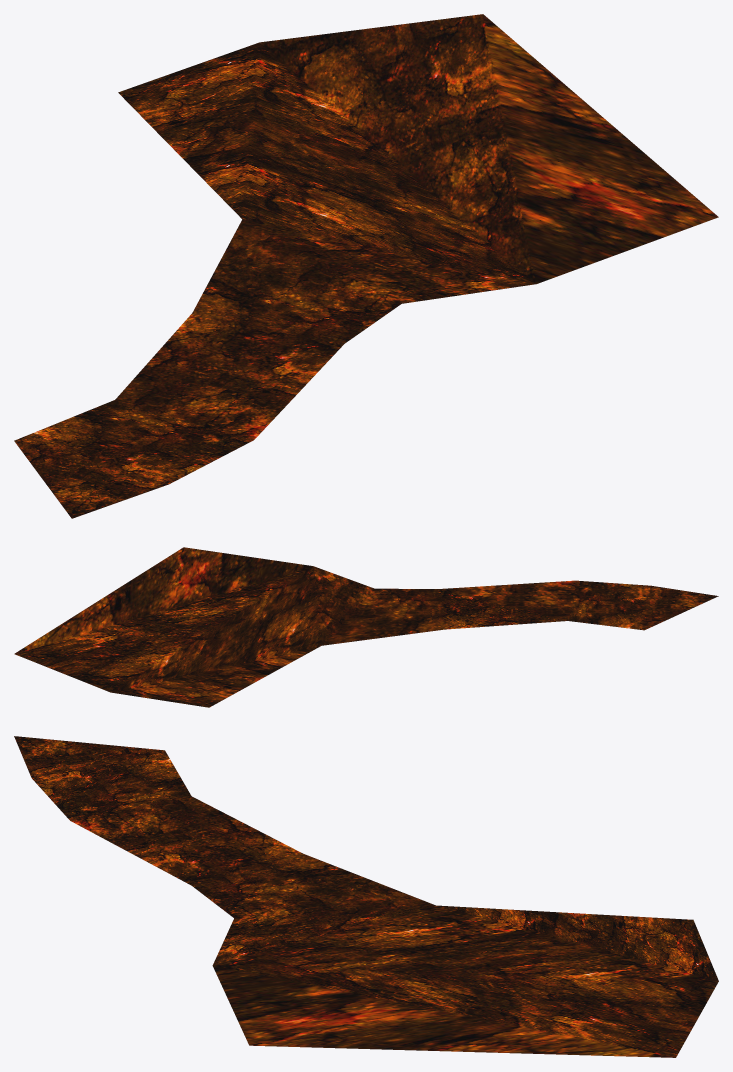
The model's file is water02.fbx.
The picture shows the model from 3 angles, top to bottom: view 1: azimuth 30°, elevation 25°; view 2: azimuth 150°, elevation 25°; view 3: azimuth 270°, elevation 25°; orthographic projection. The views are drawn at different scales.
Visible parts, largest first — view 1: water2; view 2: water2; view 3: water2.
Part boxes in pixels (<box>): water2: <box>14,14,718,518</box>; water2: <box>14,547,718,707</box>; water2: <box>14,736,718,1057</box>.
Size of the model in its own units: 6236 by 0 by 5773.
